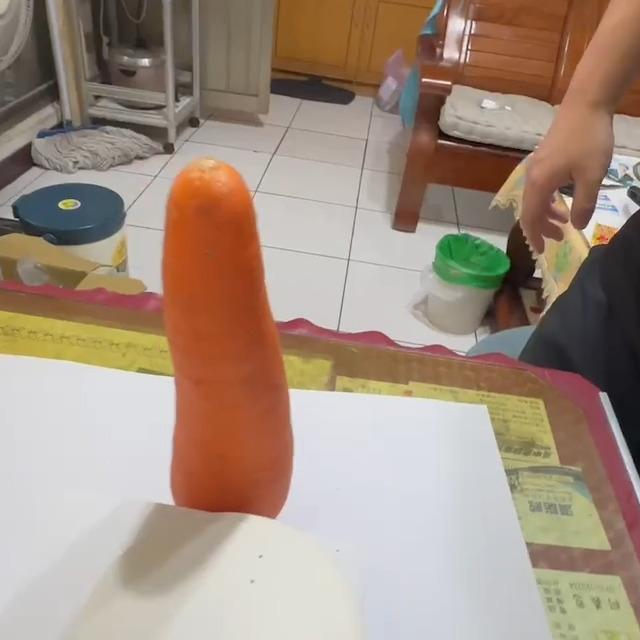carrot: (164, 158, 299, 523)
